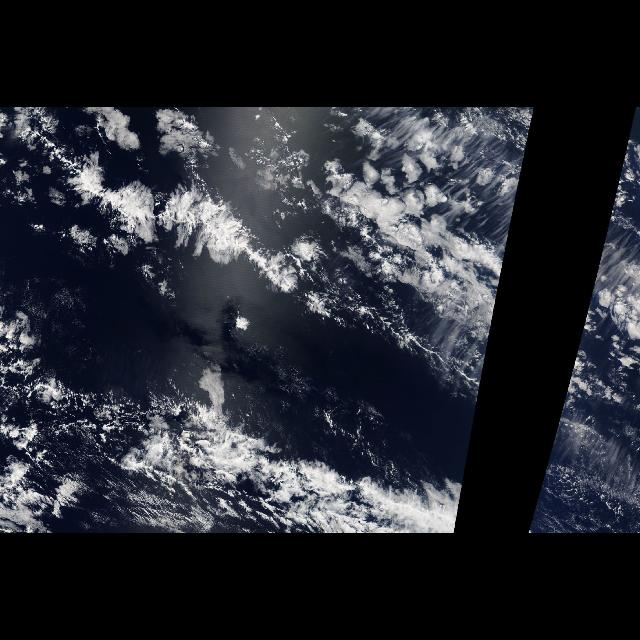Fish: (5, 122, 473, 534)
Flower: (308, 110, 534, 302)
